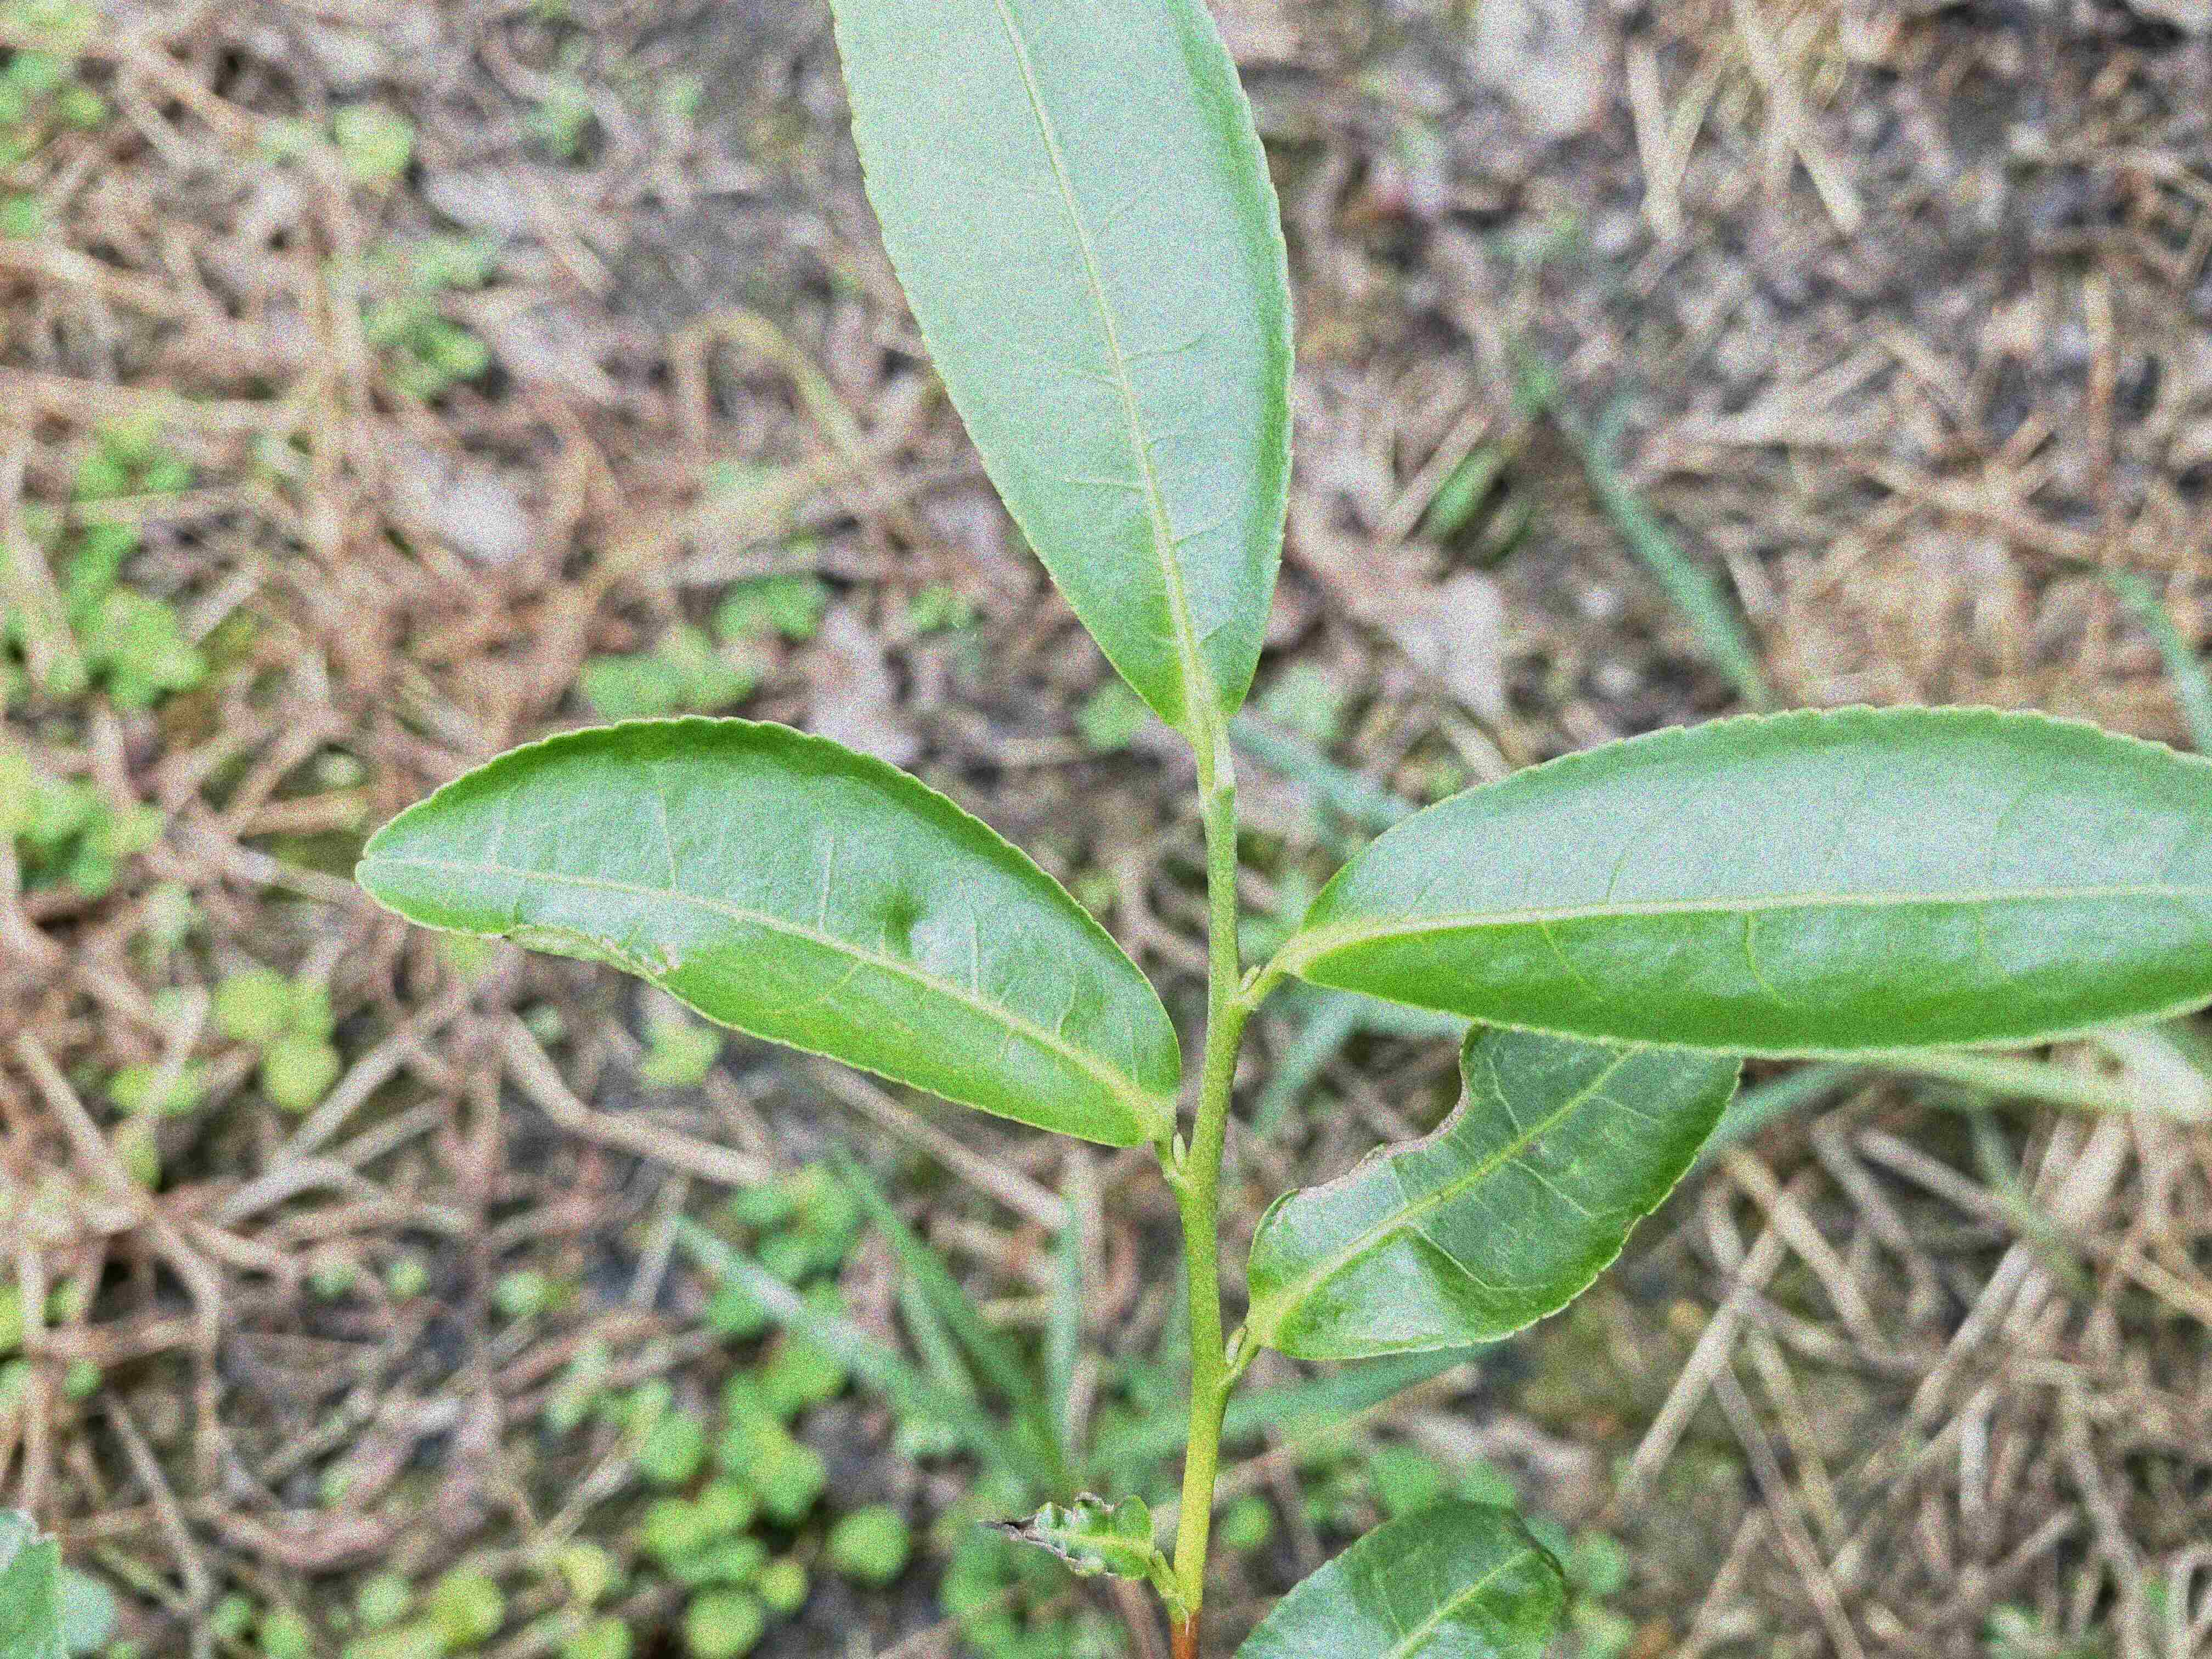chihuo_high: (975, 1490, 1155, 1584)
chihuo_low: (1240, 1021, 1740, 1358)
healthy: (822, 0, 1301, 730), (1291, 701, 2209, 1058)
tanju_low: (352, 711, 1184, 1152)
